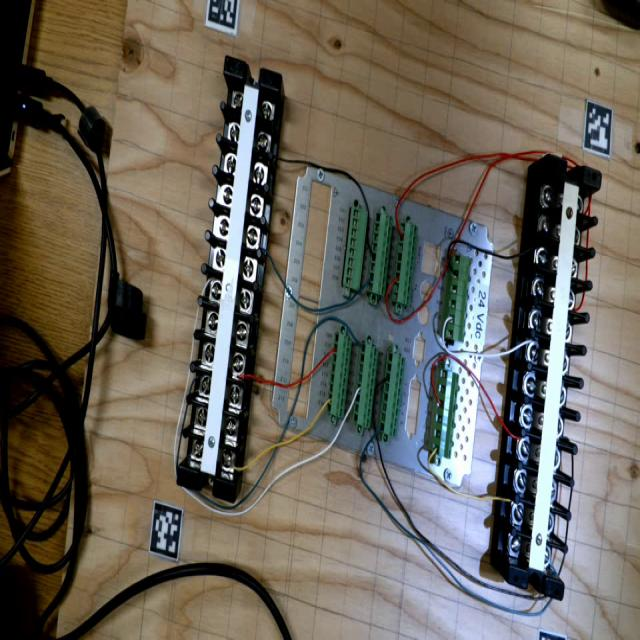Flathead_Block: (508, 155, 603, 600)
Phillips_Block: (175, 55, 284, 503)
Terminal_1: (429, 369, 460, 459), (444, 254, 471, 342)
Terminal_2: (378, 351, 406, 437), (366, 211, 394, 297), (391, 221, 419, 306), (352, 342, 379, 428), (326, 333, 353, 417)
